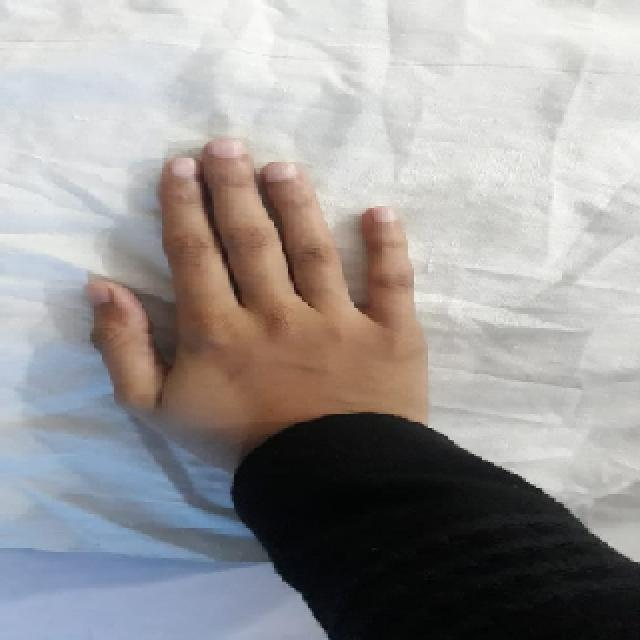Nail: (208, 139, 249, 159), (261, 162, 300, 182), (168, 158, 199, 181), (86, 278, 110, 306), (368, 206, 400, 224)
